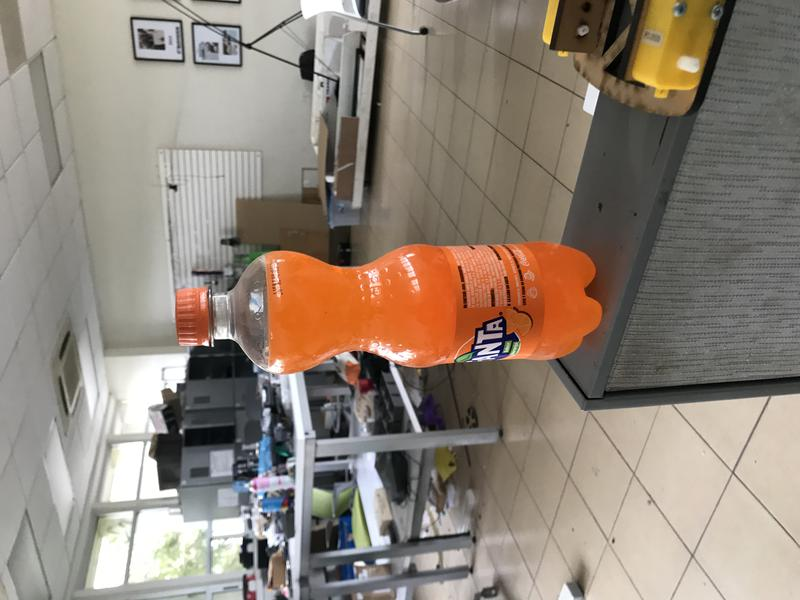fanta: (176, 244, 604, 374)
